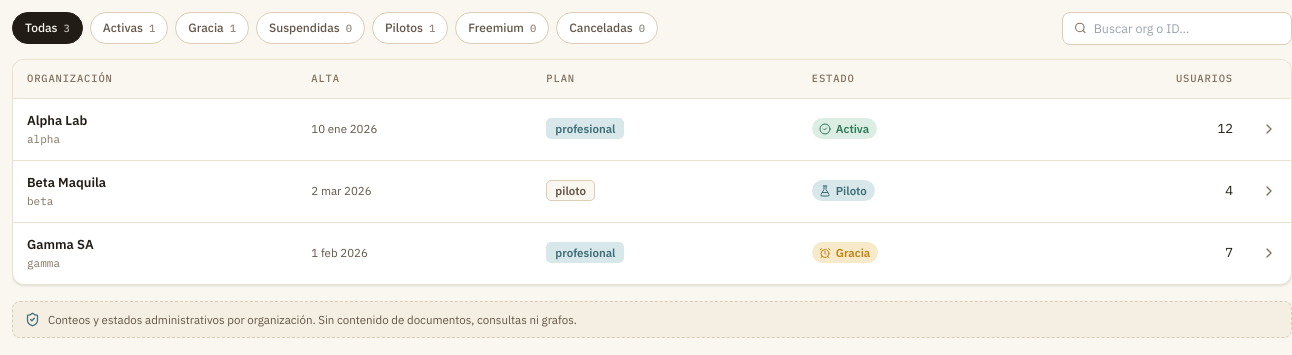
Test: Consola del fundador — render con datos REALES (no canned) › Organizaciones: tabla con datos reales + 6 filtros de estado
The image size is (1292, 355).
Expected: the text "Alpha Lab" is shown, [27,112,87,128]
Expected: the text "Beta Maquila" is shown, [27,174,106,190]
// Filtrar por "Gracia" deja solo gamma.
What coordinates should you click on to do the following:
click the button "Gracia 1"
I would click on:
 (212, 28)
Its box is [175,12,249,44].
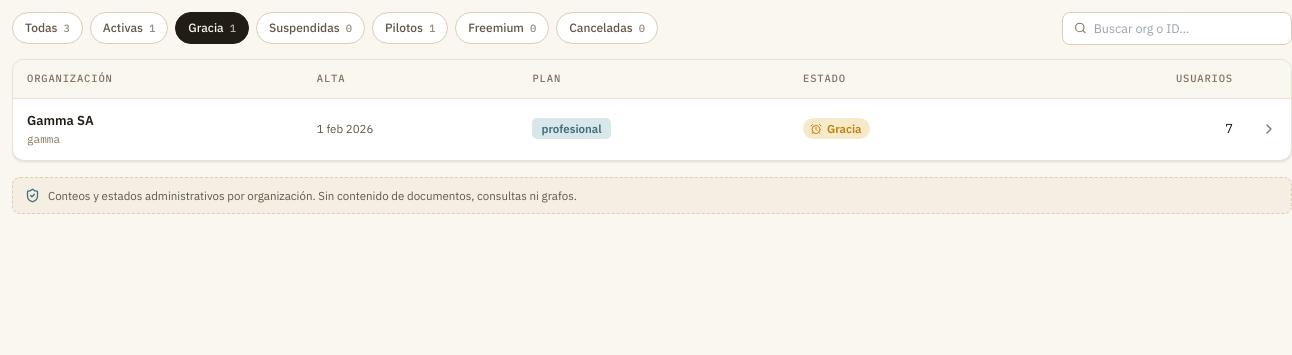
Expected: the text "Gamma SA" is shown, [27,112,94,128]
Now the text "Alpha Lab" is gone
